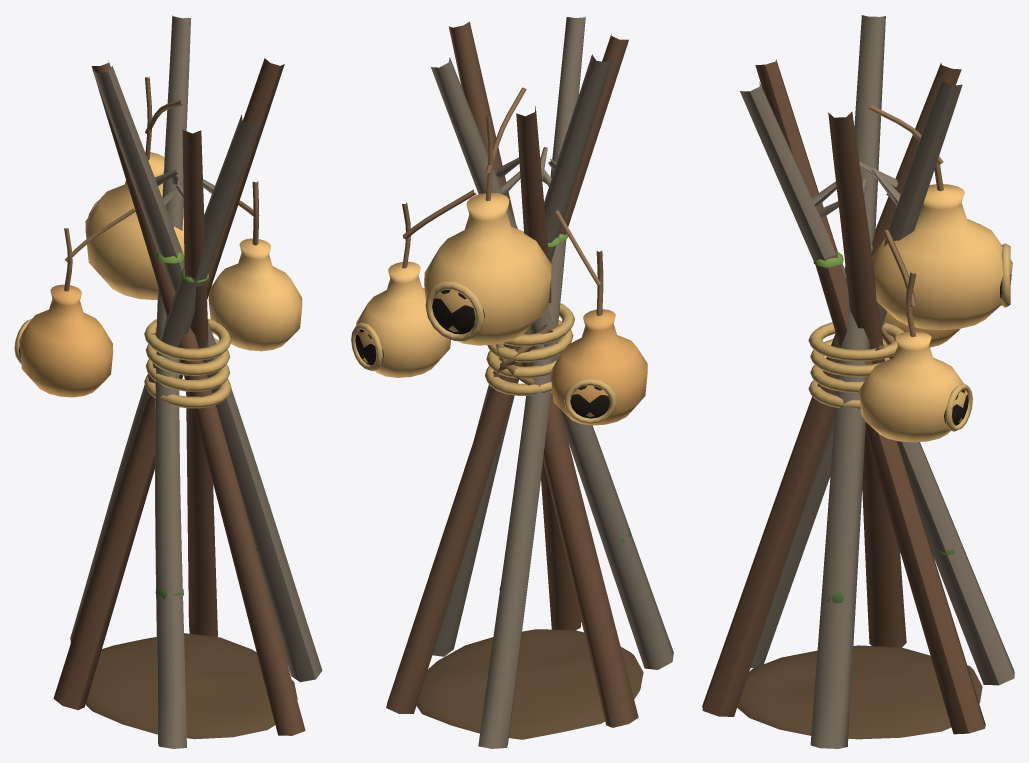
File: detail_swamp_totem.glb
3 renders of one model, left to right at view 1: azimuth 30°, elevation 25°; view 2: azimuth 150°, elevation 25°; view 3: azimuth 270°, elevation 25°, orthographic. The views are drawn at different scales.
Parts seen in each view (by area): view 1: wood, plaster, cloth; view 2: wood, plaster, cloth, object 5, object 4, object 7, object 6, object 9; view 3: wood, plaster, cloth, object 9, object 5.
Part boxes in pixels (left/top/right/bottom): wood: left=53, top=15, right=322, bottom=748; plaster: left=19, top=152, right=302, bottom=739; cloth: left=64, top=76, right=259, bottom=408; wood: left=386, top=16, right=673, bottom=748; plaster: left=356, top=192, right=647, bottom=739; cloth: left=402, top=87, right=603, bottom=395; object 5: left=425, top=281, right=484, bottom=341; object 4: left=432, top=290, right=484, bottom=334; object 7: left=564, top=379, right=616, bottom=423; object 6: left=570, top=386, right=609, bottom=418; object 9: left=351, top=322, right=382, bottom=371; wood: left=702, top=15, right=1014, bottom=748; plaster: left=737, top=184, right=1012, bottom=739; cloth: left=808, top=105, right=943, bottom=409; object 9: left=945, top=383, right=972, bottom=431; object 5: left=1001, top=243, right=1010, bottom=307.
Bounding box in the file's own units: 0.7 × 1.6 × 0.7.
